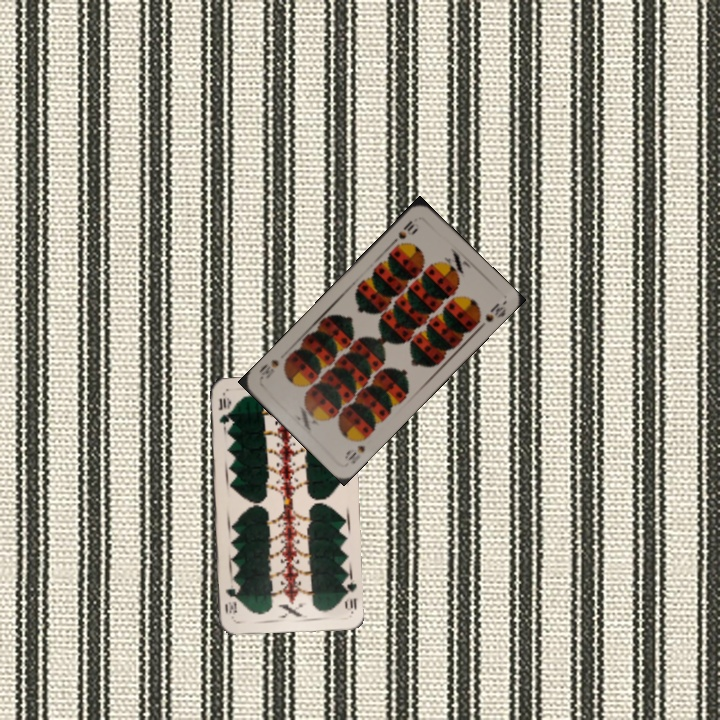G10: (340, 575, 359, 615), (215, 394, 232, 427)
S10: (340, 431, 371, 467), (388, 216, 420, 247)
